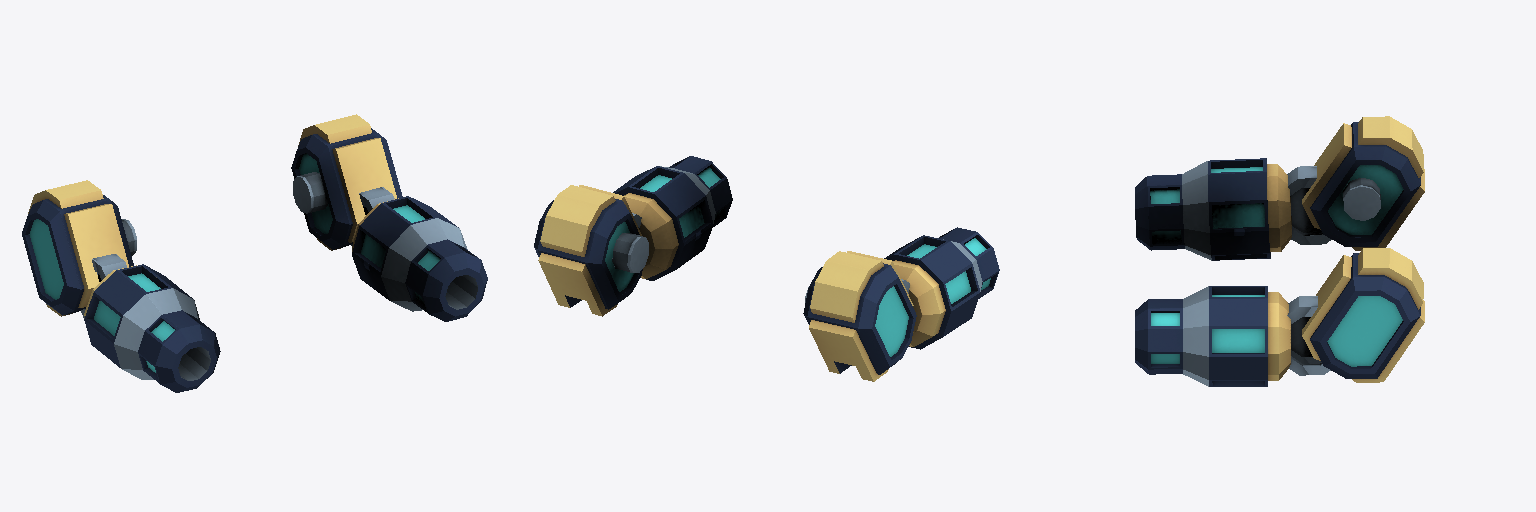
3 renders of one model, left to right at view 1: azimuth 30°, elevation 25°; view 2: azimuth 150°, elevation 25°; view 3: azimuth 270°, elevation 25°, orthographic.
Parts seen in each view (by area): view 1: Object030, Object031, Object029, Object028; view 2: Object028, Object029, Object031, Object030; view 3: Object031, Object030, Object028, Object029.
Part boxes in pixels (left/top/right/bottom): Object030: left=81, top=254, right=220, bottom=392; Object031: left=351, top=187, right=487, bottom=321; Object029: left=22, top=180, right=136, bottom=316; Object028: left=291, top=114, right=402, bottom=250; Object028: left=534, top=185, right=648, bottom=316; Object029: left=803, top=251, right=916, bottom=381; Object031: left=613, top=156, right=732, bottom=280; Object030: left=884, top=227, right=999, bottom=349; Object031: left=1135, top=286, right=1330, bottom=386; Object030: left=1135, top=158, right=1331, bottom=260; Object028: left=1302, top=248, right=1424, bottom=382; Object029: left=1302, top=116, right=1424, bottom=250.
Bounding box in the file's own units: 338 × 116 × 240.
1 materials, 1 textured.